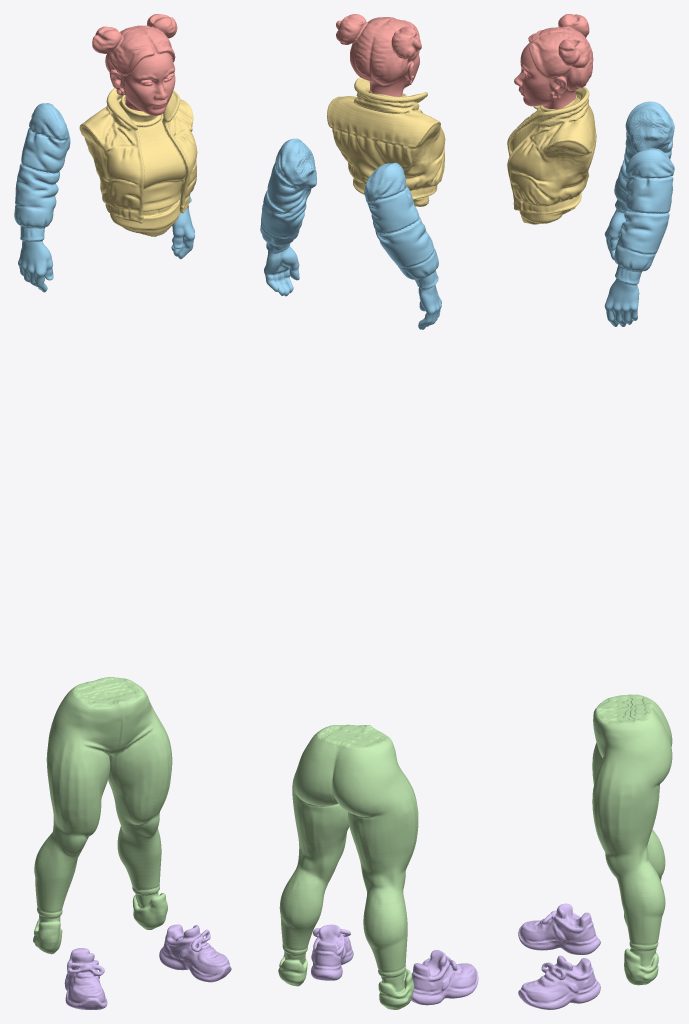
Rendered from exploded_parts.glb.
The picture shows the model from 3 angles, left to right: view 1: azimuth 30°, elevation 25°; view 2: azimuth 150°, elevation 25°; view 3: azimuth 270°, elevation 25°; orthographic projection.
Visible parts, largest first — view 1: part_004_a662b79e_e5_restored_001, part_003_a662b79e_e3_restored_001, part_002_a662b79e_e2_restored_001, part_001_a662b79e_e1_restored_001, part_005_a662b79e_e6_restored_001; view 2: part_004_a662b79e_e5_restored_001, part_002_a662b79e_e2_restored_001, part_003_a662b79e_e3_restored_001, part_001_a662b79e_e1_restored_001, part_005_a662b79e_e6_restored_001; view 3: part_004_a662b79e_e5_restored_001, part_002_a662b79e_e2_restored_001, part_003_a662b79e_e3_restored_001, part_005_a662b79e_e6_restored_001, part_001_a662b79e_e1_restored_001.
Boxes of the visible parts, x1,y1,x2,y2 form: part_004_a662b79e_e5_restored_001: (33, 677, 172, 954); part_003_a662b79e_e3_restored_001: (79, 88, 197, 236); part_002_a662b79e_e2_restored_001: (14, 103, 194, 292); part_001_a662b79e_e1_restored_001: (92, 14, 177, 115); part_005_a662b79e_e6_restored_001: (64, 924, 231, 1009); part_004_a662b79e_e5_restored_001: (278, 724, 418, 1009); part_002_a662b79e_e2_restored_001: (260, 138, 441, 329); part_003_a662b79e_e3_restored_001: (327, 77, 445, 206); part_001_a662b79e_e1_restored_001: (336, 14, 421, 96); part_005_a662b79e_e6_restored_001: (311, 924, 478, 1005); part_004_a662b79e_e5_restored_001: (592, 694, 672, 985); part_002_a662b79e_e2_restored_001: (604, 101, 674, 326); part_003_a662b79e_e3_restored_001: (507, 86, 596, 224); part_005_a662b79e_e6_restored_001: (518, 903, 600, 1009); part_001_a662b79e_e1_restored_001: (514, 14, 593, 109).
Bounding box in the file's own units: 0.4704 × 2.5 × 0.4005.
